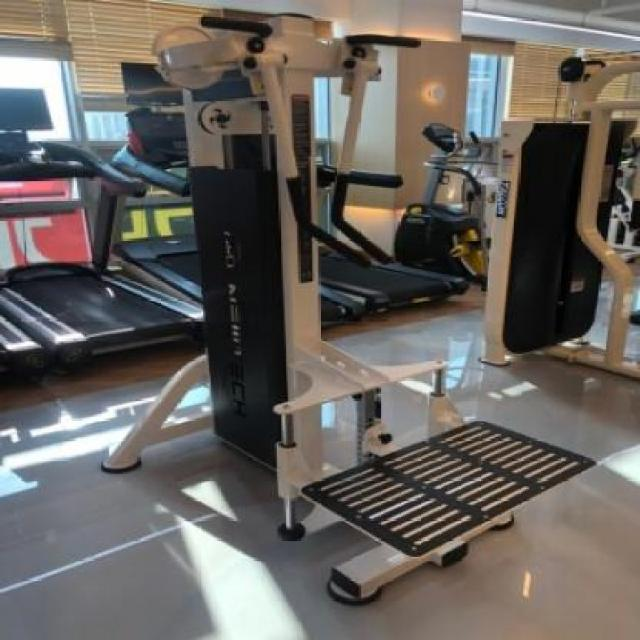lateral raises machine: (194, 11, 483, 604)
